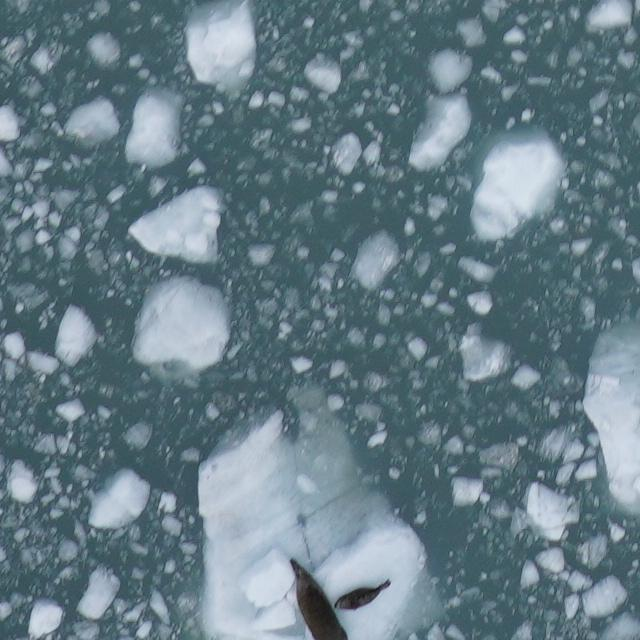seal: (285, 552, 354, 640), (329, 574, 396, 617)
